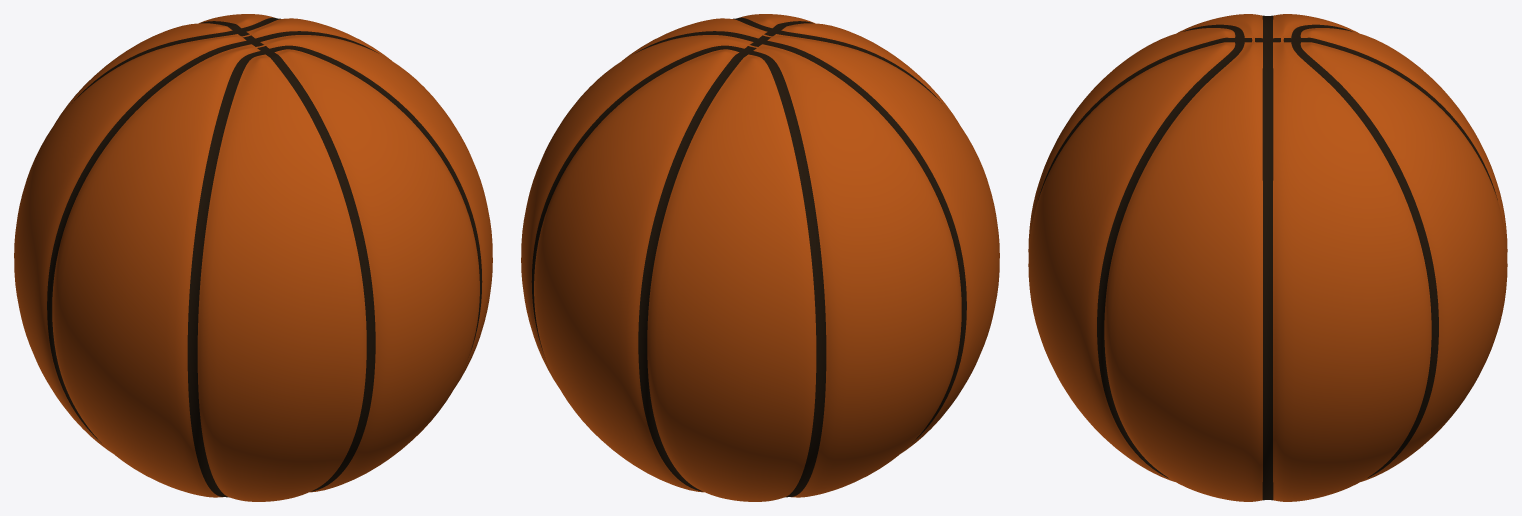
Rendered from ball.fbx.
3 views of the same model, side by side, from view 1: azimuth 30°, elevation 25°; view 2: azimuth 150°, elevation 25°; view 3: azimuth 270°, elevation 25° (orthographic).
Parts seen in each view (by area): view 1: Sphere; view 2: Sphere; view 3: Sphere.
Boxes of the visible parts, <box> form: Sphere: <box>14,14,492,501</box>; Sphere: <box>521,14,999,501</box>; Sphere: <box>1028,14,1507,501</box>.
Bounding box in the file's own units: 193 × 196 × 193.
